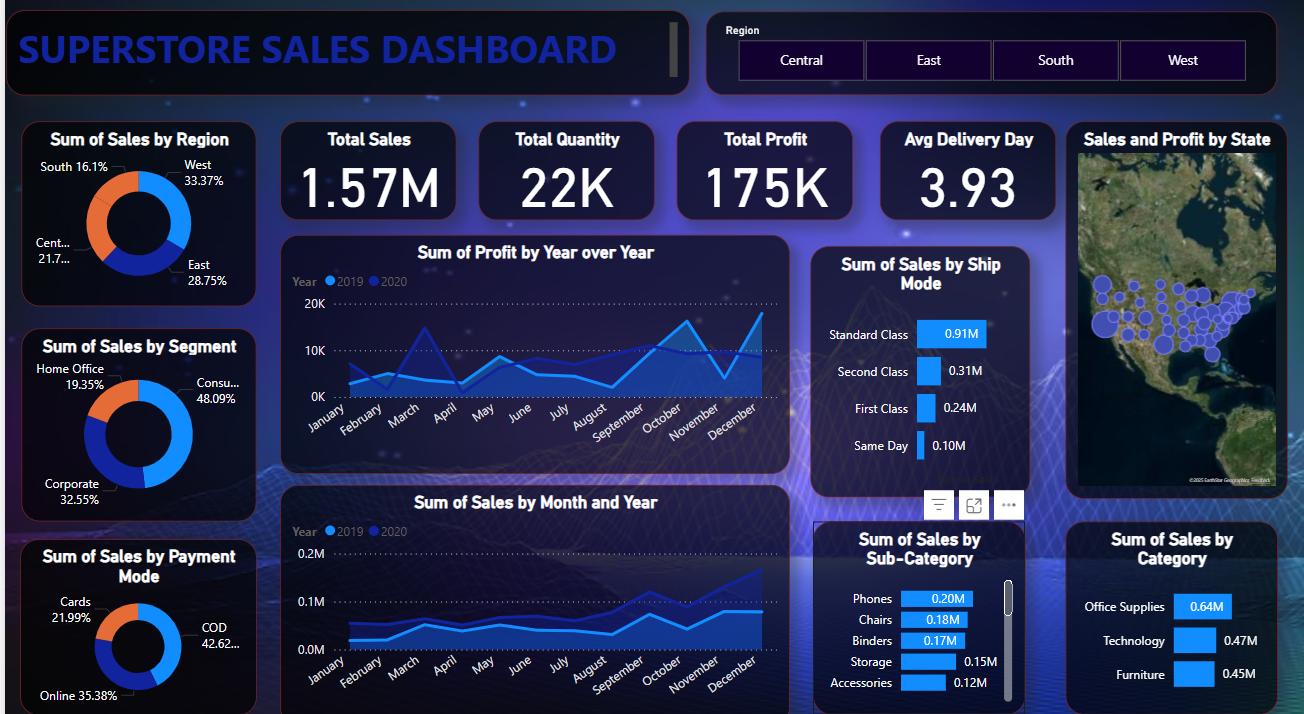

Layout of this report page (visuals, bound fields, positions):
{"tool":"powerbi","page":{"name":"Page 1","canvas":[1280,720],"ordinal":0},"visuals":[{"type":"card","title":"     Total Sales","fields":{"Values":["Sum(Sheet1.Sales)"]},"box":[271.2,123.8,173.8,97.5],"z":0},{"type":"card","title":"Avg Delivery Day","fields":{"Values":["Sheet1.AvgDeliveryDays"]},"box":[861.2,123.8,173.8,97.5],"z":1000},{"type":"card","title":"Total Profit","fields":{"Values":["Sum(Sheet1.Profit)"]},"box":[661.2,123.8,173.8,97.5],"z":2000},{"type":"card","title":"Total Quantity","fields":{"Values":["Sum(Sheet1.Quantity)"]},"box":[466.2,123.8,173.8,97.5],"z":3000},{"type":"textbox","box":[1.2,15,672.5,84],"z":4000},{"type":"lineChart","title":"Sum of Profit by Year over Year","fields":{"Category":["Sheet1.Order Date.Variation.Date Hierarchy.Month","Sheet1.Order Date.Variation.Date Hierarchy.Day"],"Y":["Sum(Sheet1.Profit)"],"Series":["Sheet1.Order Date.Variation.Date Hierarchy.Year"]},"box":[271.2,236.2,501.2,235],"z":5000},{"type":"lineChart","fields":{"Category":["Sheet1.Order Date.Variation.Date Hierarchy.Month","Sheet1.Order Date.Variation.Date Hierarchy.Day"],"Y":["Sum(Sheet1.Sales)"],"Series":["Sheet1.Order Date.Variation.Date Hierarchy.Year"]},"box":[271.2,482.5,501.2,237.5],"z":6000},{"type":"donutChart","fields":{"Y":["Sum(Sheet1.Sales)"],"Category":["Sheet1.Region"]},"box":[16.2,123.8,231.2,182.5],"z":7000},{"type":"donutChart","fields":{"Category":["Sheet1.Payment Mode"],"Y":["Sum(Sheet1.Sales)"]},"box":[15,535,232.5,173.8],"z":8000},{"type":"donutChart","fields":{"Y":["Sum(Sheet1.Sales)"],"Category":["Sheet1.Segment"]},"box":[16.2,327.5,231.2,190],"z":9000},{"type":"azureMap","title":"Sales and  Profit by State","fields":{"Category":["Sheet1.State"],"Size":["Sum(Sheet1.Sales)"]},"box":[1043.8,123.8,218.8,371.2],"z":10000},{"type":"barChart","fields":{"Y":["Sum(Sheet1.Sales)"],"Category":["Sheet1.Ship Mode"]},"box":[792.5,247.5,216.2,247.5],"z":11000},{"type":"barChart","fields":{"Y":["Sum(Sheet1.Sales)"],"Category":["Sheet1.Sub-Category"]},"box":[795,517.5,208.8,190],"z":12000},{"type":"barChart","fields":{"Y":["Sum(Sheet1.Sales)"],"Category":["Sheet1.Category"]},"box":[1043.8,517.5,208.8,190],"z":13000},{"type":"slicer","fields":{"Values":["Sheet1.Region"]},"box":[690,16,562,82],"z":14000}]}

Visuals, with their boxes in screenshot pixels (x1, y1, x2, y2), scaled from the page's 1280x720 canvas onto the 1304x714 screenshot:
"     Total Sales" card: rect(276, 123, 453, 219)
"Avg Delivery Day" card: rect(877, 123, 1054, 219)
"Total Profit" card: rect(674, 123, 851, 219)
"Total Quantity" card: rect(475, 123, 652, 219)
textbox: rect(1, 15, 686, 98)
"Sum of Profit by Year over Year" lineChart: rect(276, 234, 787, 467)
lineChart - Sheet1.Order Date.Variation.Date Hierarchy.Month x Sheet1.Order Date.Variation.Date Hierarchy.Day: rect(276, 478, 787, 713)
donutChart - Sum(Sheet1.Sales) x Sheet1.Region: rect(17, 123, 252, 304)
donutChart - Sheet1.Payment Mode x Sum(Sheet1.Sales): rect(15, 531, 252, 703)
donutChart - Sum(Sheet1.Sales) x Sheet1.Segment: rect(17, 325, 252, 513)
"Sales and  Profit by State" azureMap: rect(1063, 123, 1286, 491)
barChart - Sum(Sheet1.Sales) x Sheet1.Ship Mode: rect(807, 245, 1028, 491)
barChart - Sum(Sheet1.Sales) x Sheet1.Sub-Category: rect(810, 513, 1023, 702)
barChart - Sum(Sheet1.Sales) x Sheet1.Category: rect(1063, 513, 1276, 702)
slicer - Sheet1.Region: rect(703, 16, 1275, 97)
